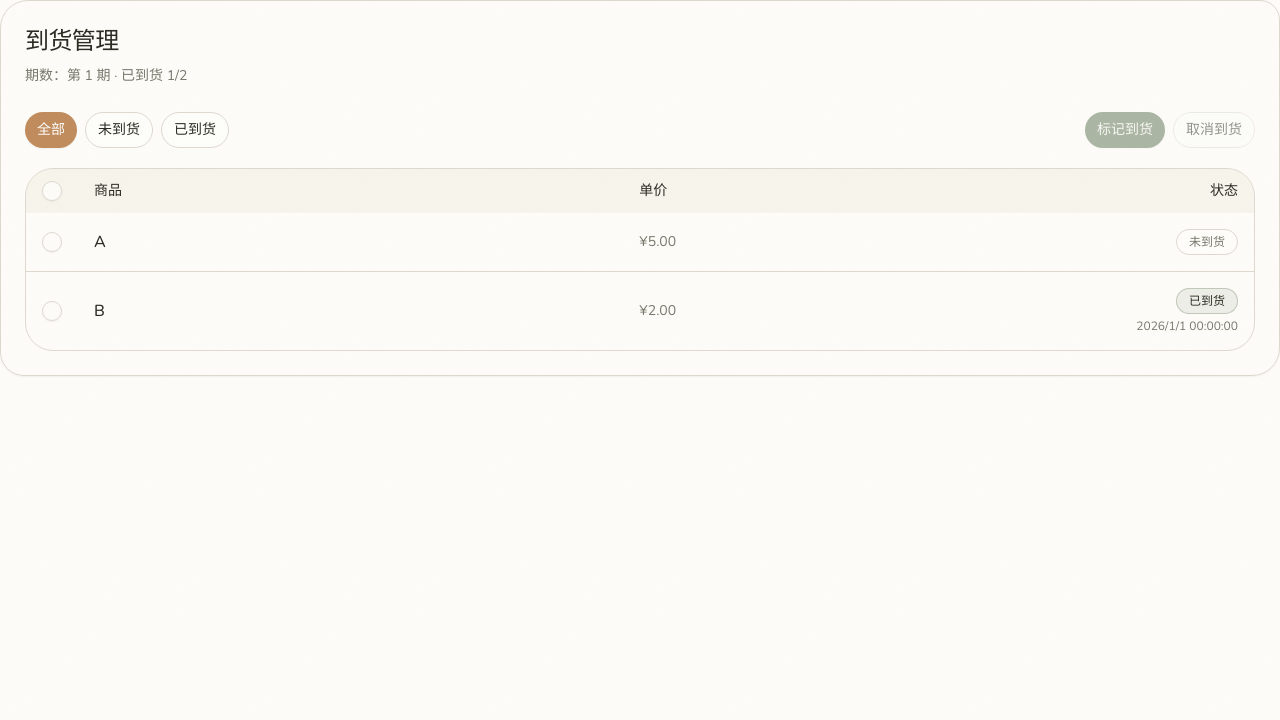
ArrivalManager cancels arrived status
The image size is (1280, 720).
Click the button "已到货" at (195, 130), box [161,112,229,148]
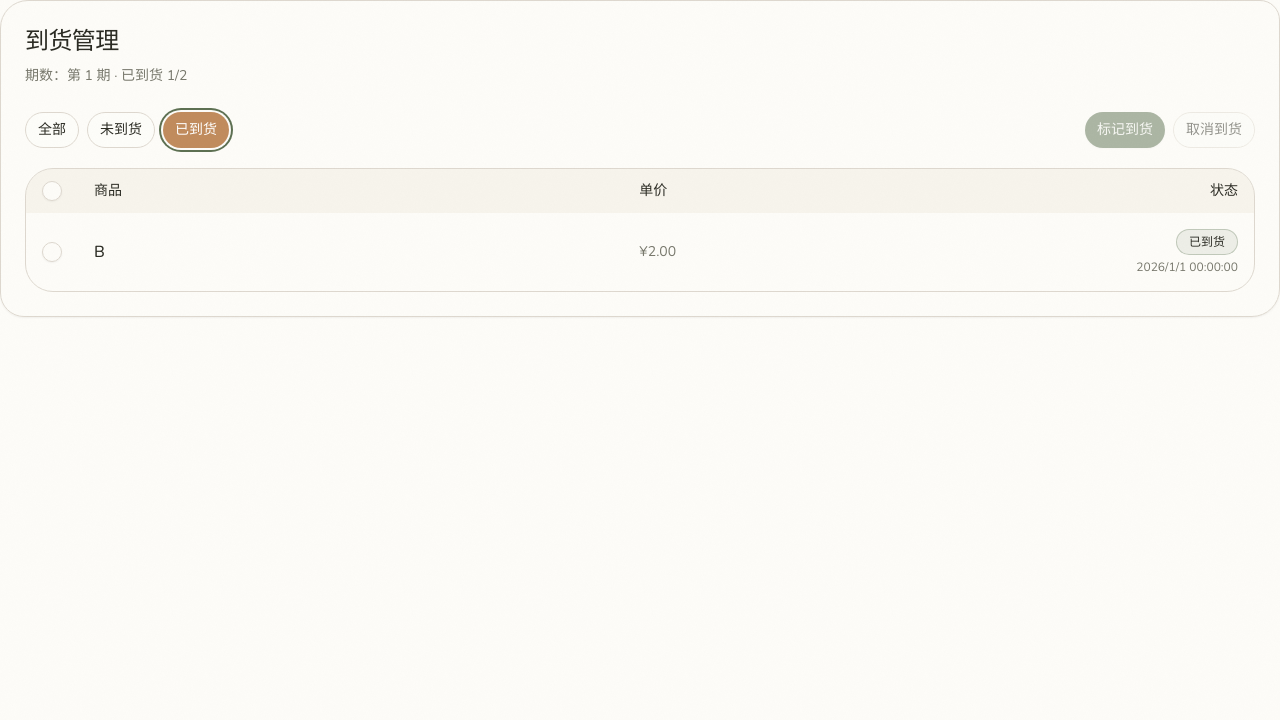
Click the checkbox named "Select B" at (52, 252), box [42,242,62,262]
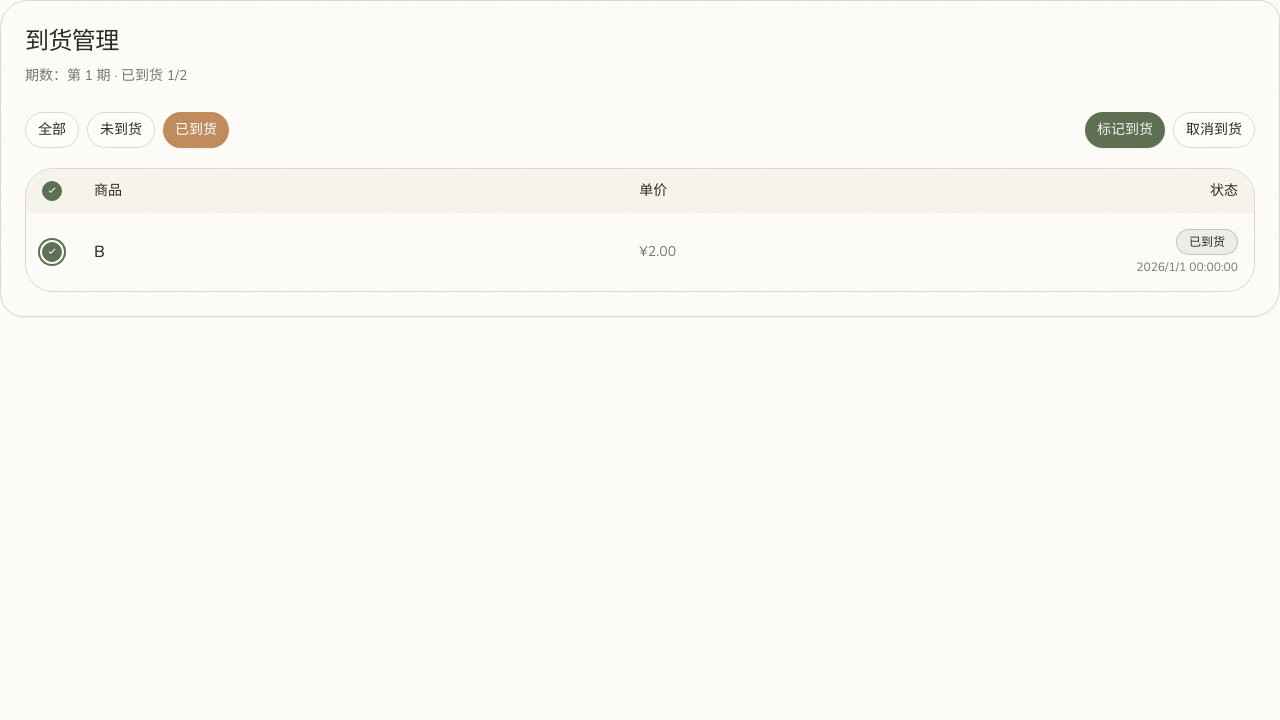
Click the button "取消到货" at (1214, 130), box [1173,112,1255,148]
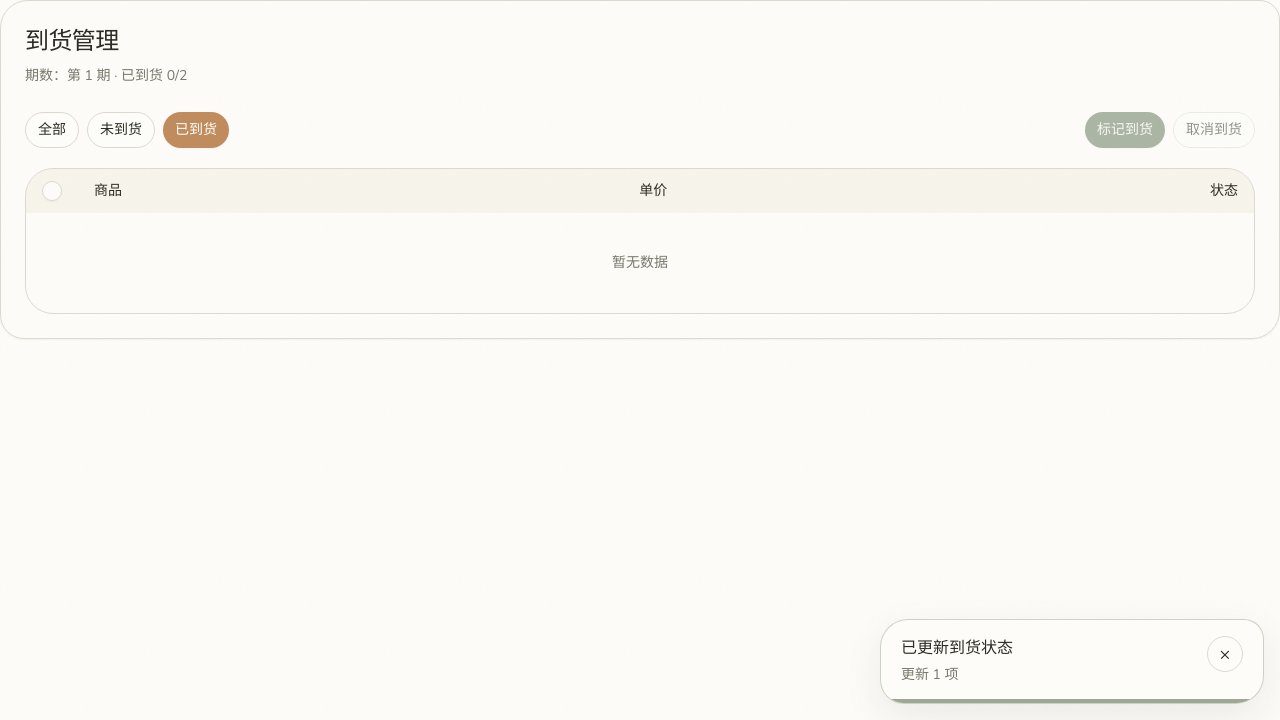
Check: the list item "暂无数据" is shown, box [612,253,668,272]
